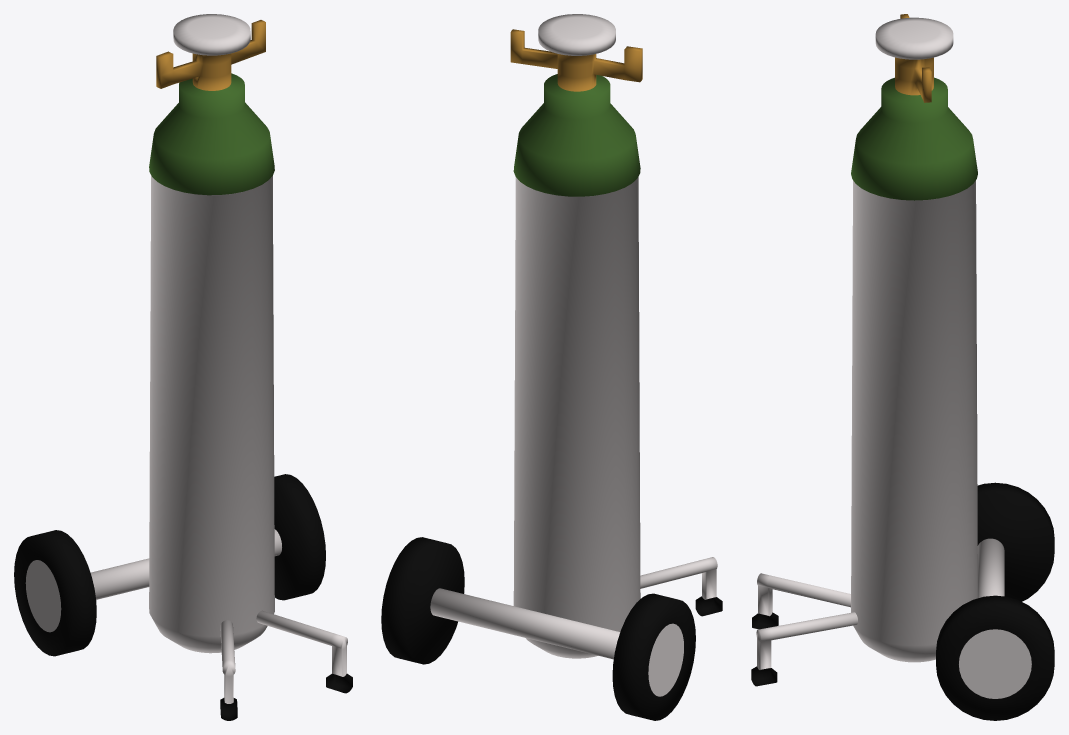
The model's file is 02tank.fbx.
3 renders of one model, left to right at view 1: azimuth 30°, elevation 25°; view 2: azimuth 150°, elevation 25°; view 3: azimuth 270°, elevation 25°, orthographic.
Visible parts, largest first — view 1: Cylinder; view 2: Cylinder; view 3: Cylinder.
Boxes of the visible parts, <box> form: Cylinder: <box>14,14,352,720</box>; Cylinder: <box>381,14,722,720</box>; Cylinder: <box>751,14,1054,720</box>.
Bounding box in the file's own units: 464 × 1089 × 477.
